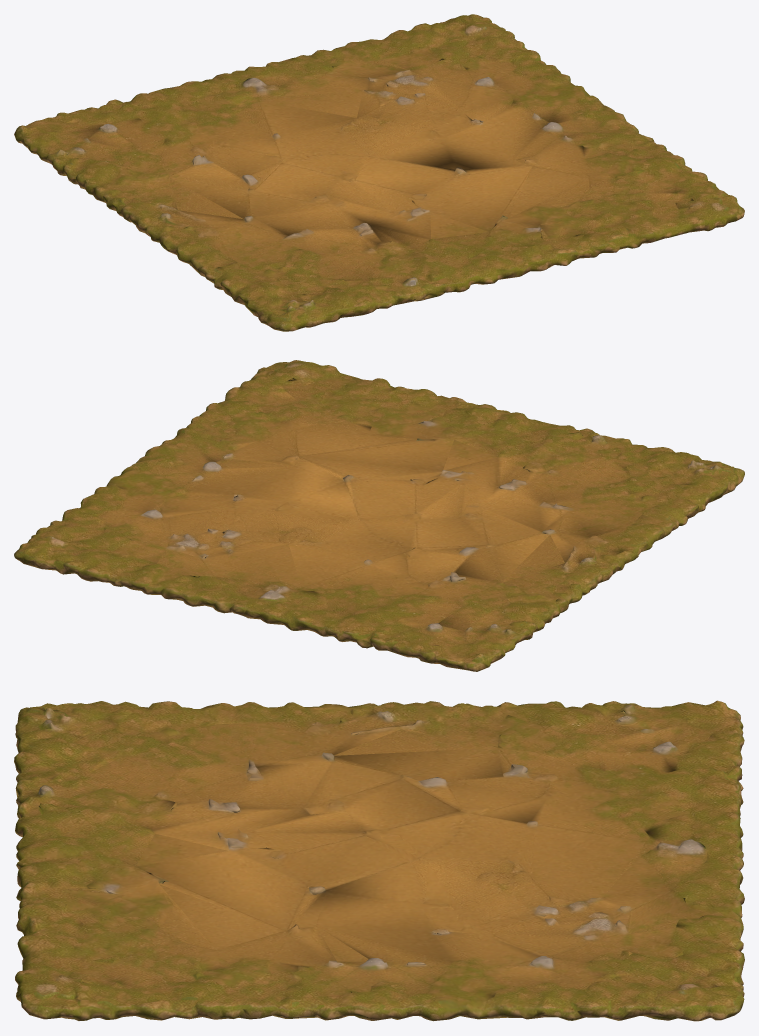
Rendered from chao-grama.fbx.
3 renders of one model, top to bottom at view 1: azimuth 30°, elevation 25°; view 2: azimuth 150°, elevation 25°; view 3: azimuth 270°, elevation 25°, orthographic. The views are drawn at different scales.
Visible parts, largest first — view 1: mesh_node; view 2: mesh_node; view 3: mesh_node.
Boxes of the visible parts, <box> form: mesh_node: <box>14,14,744,331</box>; mesh_node: <box>14,360,744,671</box>; mesh_node: <box>14,700,744,1021</box>.
Bounding box in the file's own units: 188 × 6.73 × 187.
1 material, 1 textured.
